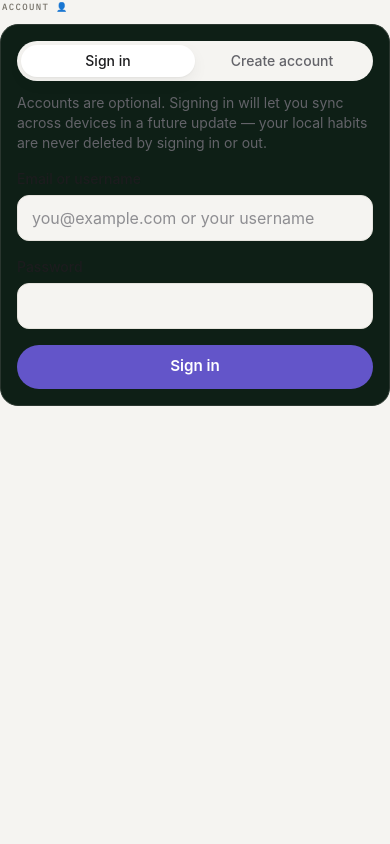
Scenario: AccountSettings › validates the sign-up form without submitting
The image size is (390, 844).
Expected: the element named "Account action" is shown, [17, 40, 373, 80]
Click the radio button labelled "Create account" at [282, 60], box [195, 44, 369, 76]
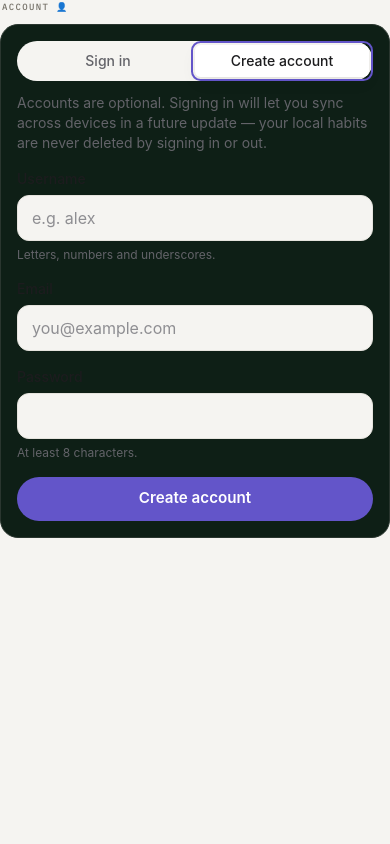
Note: Enter an invalid email and leave the other fields empty.
Type "nope" into the field labelled "Email" at [195, 328], box [17, 304, 373, 350]
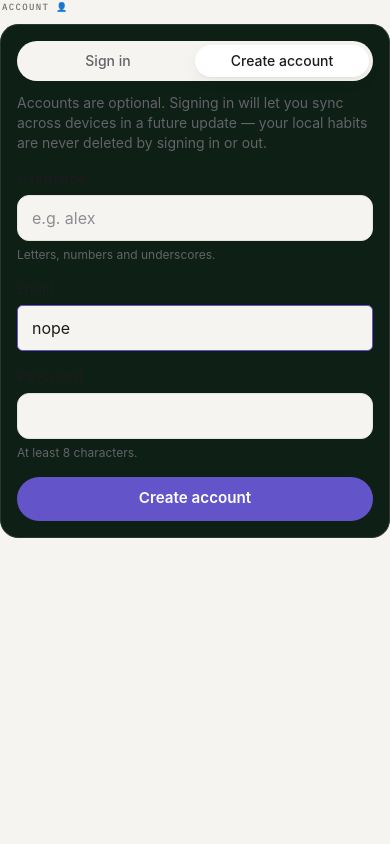
Click the button "Create account" at [195, 498], box [17, 476, 373, 520]
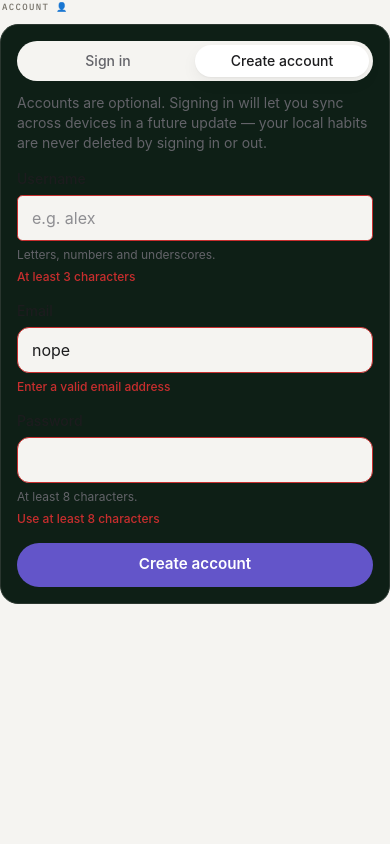
Now the text "At least 3 characters" is shown, box [17, 268, 135, 284]
Now the text "Enter a valid email address" is shown, box [17, 378, 170, 394]
